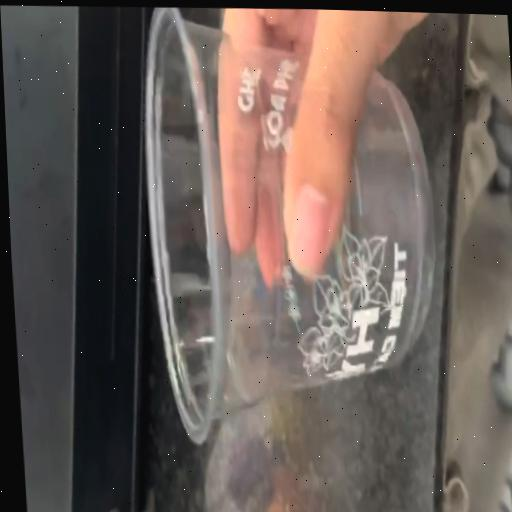ly_nhua: (145, 6, 393, 441), (337, 73, 431, 340)
